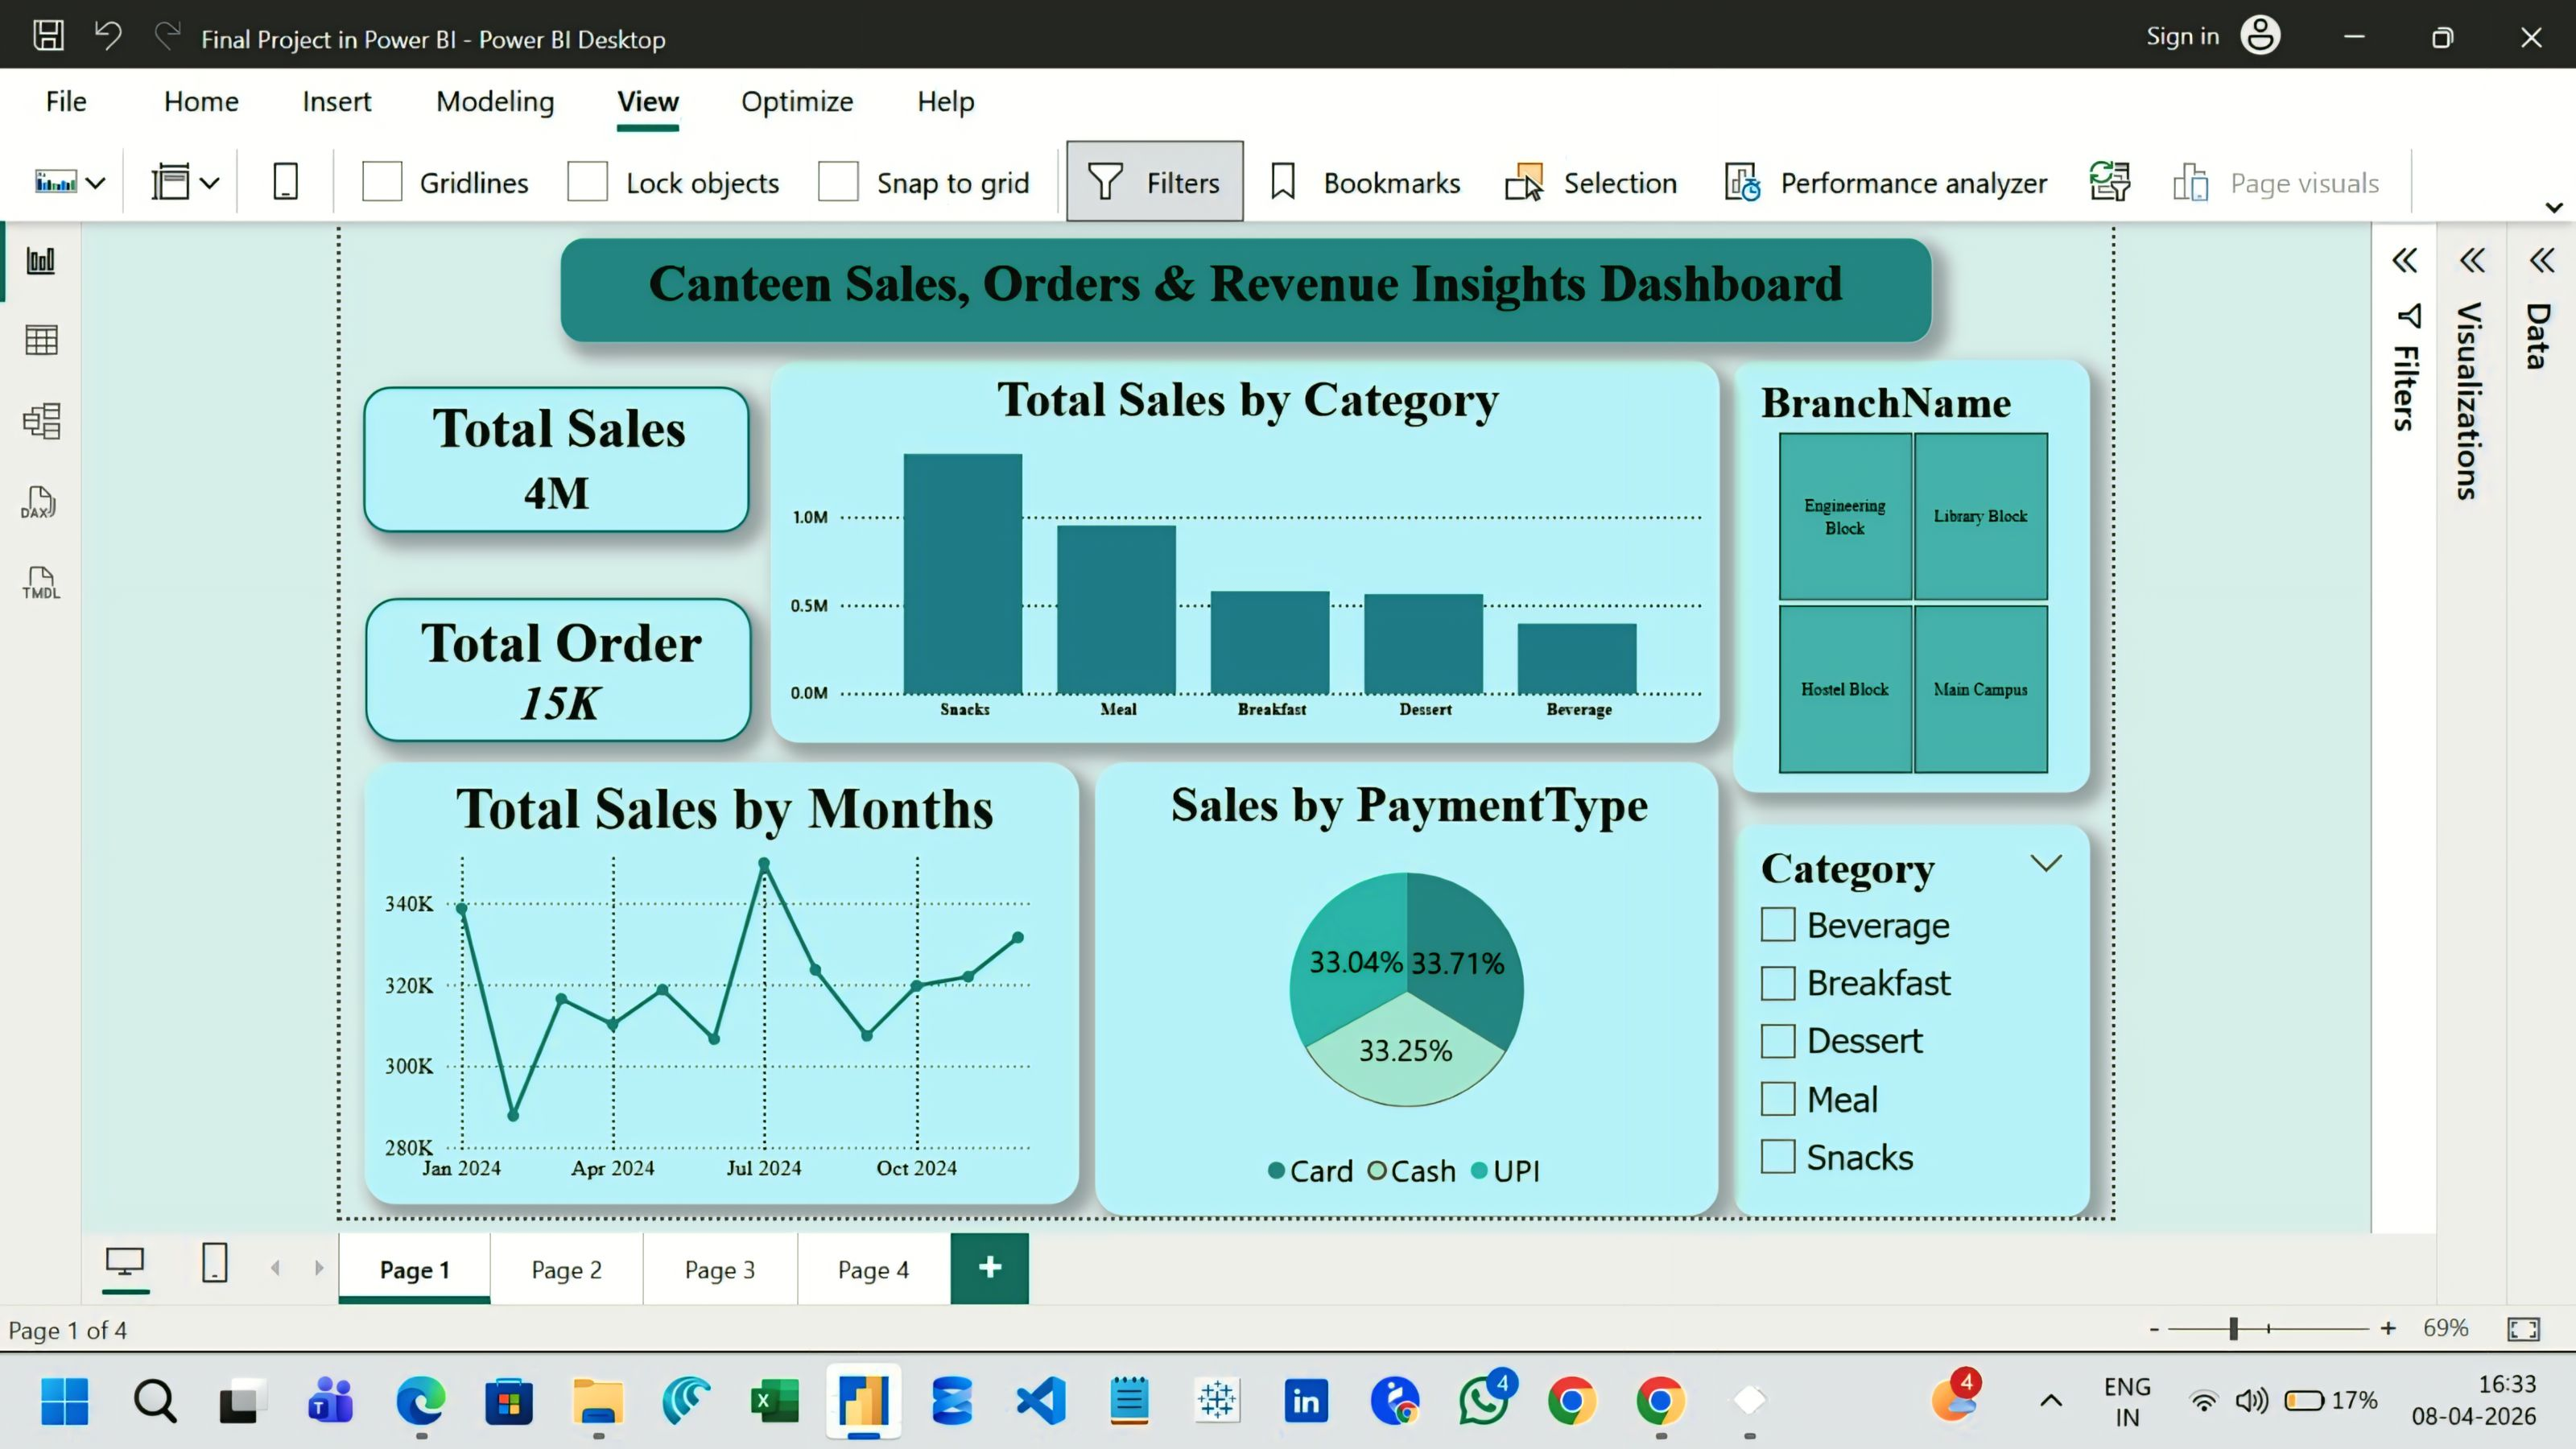

The dashboard page shown, as its layout file describes it:
{"tool":"powerbi","page":{"name":"Page 1","canvas":[1280,720],"ordinal":0},"visuals":[{"type":"card","title":"Total Sales","fields":{"Values":["Fact_Sales.Total Sales"]},"box":[17.8,19.4,280.1,108.5],"z":0},{"type":"card","title":"Total Order","fields":{"Values":["Fact_Sales.Total Orders"]},"box":[17.8,150.6,280.1,113.3],"z":1000},{"type":"columnChart","title":" Sales by Category","fields":{"Category":["Dim_Items.Category"],"Y":["Fact_Sales.Total Sales"]},"box":[313.4,19.7,345.2,281.6],"z":2000},{"type":"lineChart","title":"Sales by Date","fields":{"Y":["Fact_Sales.Total Sales"],"Category":["Dim_Date.Date.Variation.Date Hierarchy.Year","Dim_Date.Date.Variation.Date Hierarchy.Month"]},"box":[355.8,310.4,375.5,342.2],"z":3000},{"type":"pieChart","title":" Sales by PaymentType","fields":{"Category":["Dim_Payment.PaymentType"],"Y":["Fact_Sales.Total Sales"]},"box":[670,21.7,280,255],"z":4000},{"type":"treemap","title":" Sales by Category","fields":{"Group":["Dim_Items.Category"],"Values":["Fact_Sales.Total Sales"]},"box":[976.7,25,280,255],"z":5000},{"type":"slicer","fields":{"Values":["Dim_Branch.BranchName"]},"box":[742,301.3,257.4,212],"z":6000},{"type":"slicer","fields":{"Values":["Dim_Payment.PaymentType"]},"box":[1010,301.3,257.4,172.6],"z":7000},{"type":"slicer","fields":{"Values":["Dim_Items.Category"]},"box":[1010,483,257.4,222.6],"z":8000},{"type":"slicer","fields":{"Values":["Fact_Sales.CustomerType"]},"box":[742,528.5,257.4,177.2],"z":9000},{"type":"donutChart","title":" TotalAmount by CustomerType","fields":{"Category":["Fact_Sales.CustomerType"],"Y":["Sum(Fact_Sales.TotalAmount)"]},"box":[10,313,333,341],"z":10000}]}

Visuals, with their boxes on the page's 1280x720 design canvas (x1, y1, x2, y2). These are canvas units, not pixel positions in the 2576x1449 screenshot, which may show the page scaled, cropped or inside an application window:
"Total Sales" card: box(18, 19, 298, 128)
"Total Order" card: box(18, 151, 298, 264)
" Sales by Category" columnChart: box(313, 20, 659, 301)
"Sales by Date" lineChart: box(356, 310, 731, 653)
" Sales by PaymentType" pieChart: box(670, 22, 950, 277)
" Sales by Category" treemap: box(977, 25, 1257, 280)
slicer - Dim_Branch.BranchName: box(742, 301, 999, 513)
slicer - Dim_Payment.PaymentType: box(1010, 301, 1267, 474)
slicer - Dim_Items.Category: box(1010, 483, 1267, 706)
slicer - Fact_Sales.CustomerType: box(742, 528, 999, 706)
" TotalAmount by CustomerType" donutChart: box(10, 313, 343, 654)
